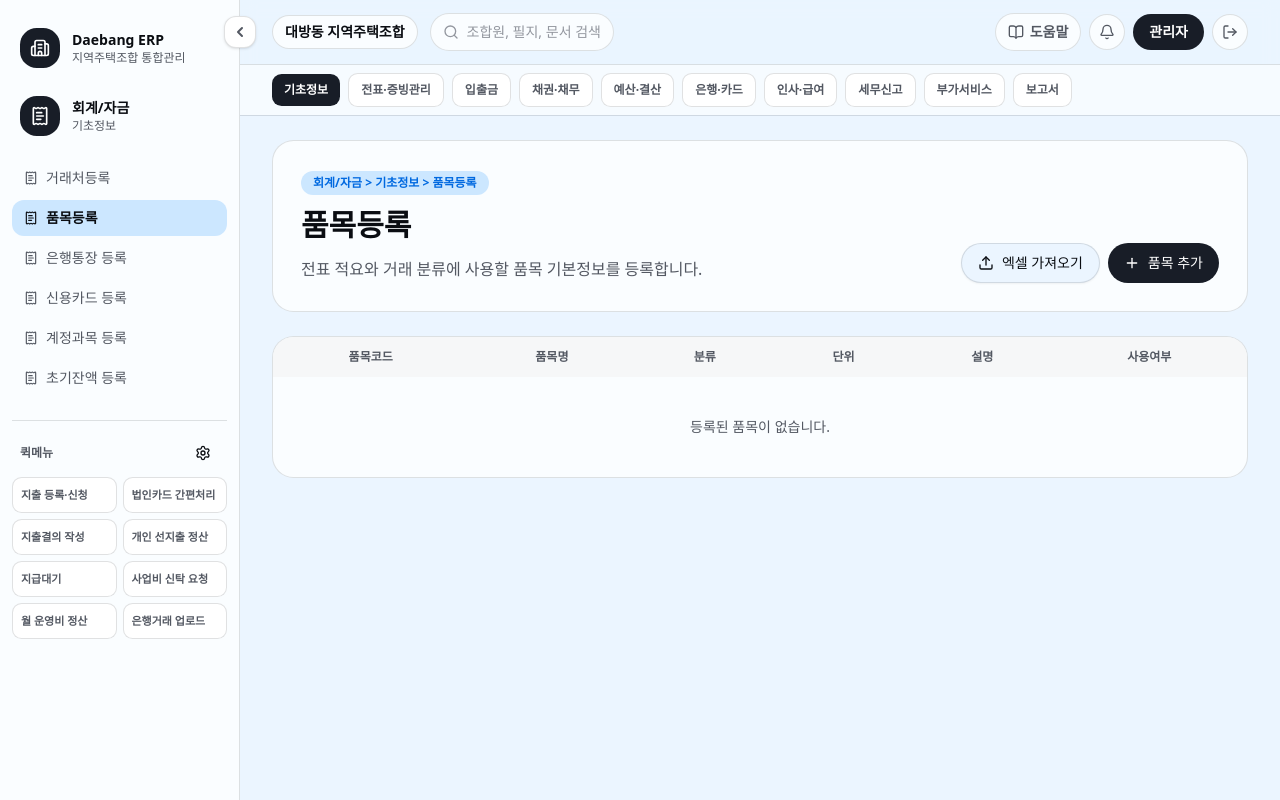
it: BusinessPartnerPage › renders the item section and persists a new item through the configured action
Check: the heading "품목등록" is shown, box [301,204,411,245]
Click the button "품목 추가" at (1163, 263), box [1108,243,1219,283]
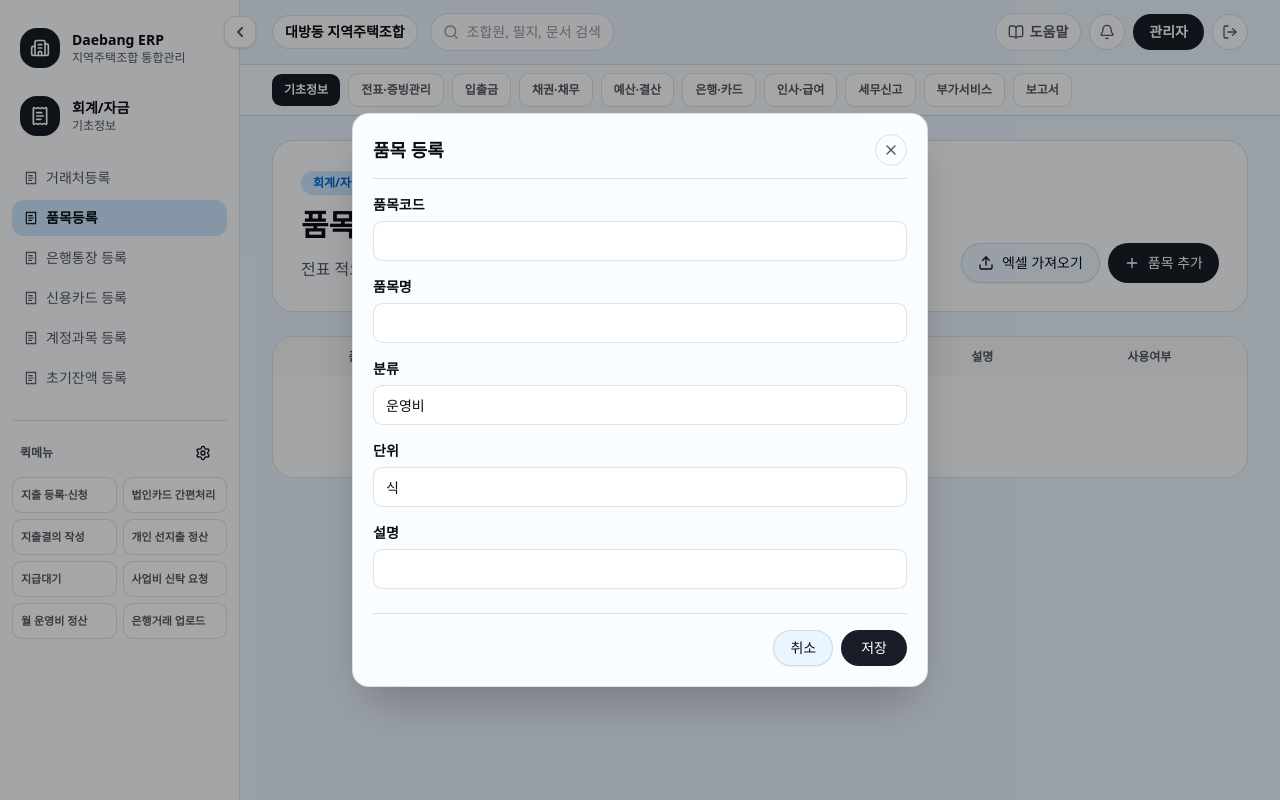
Type "ITEM-001" into the field labelled "품목코드" at (640, 241), box [373,221,907,261]
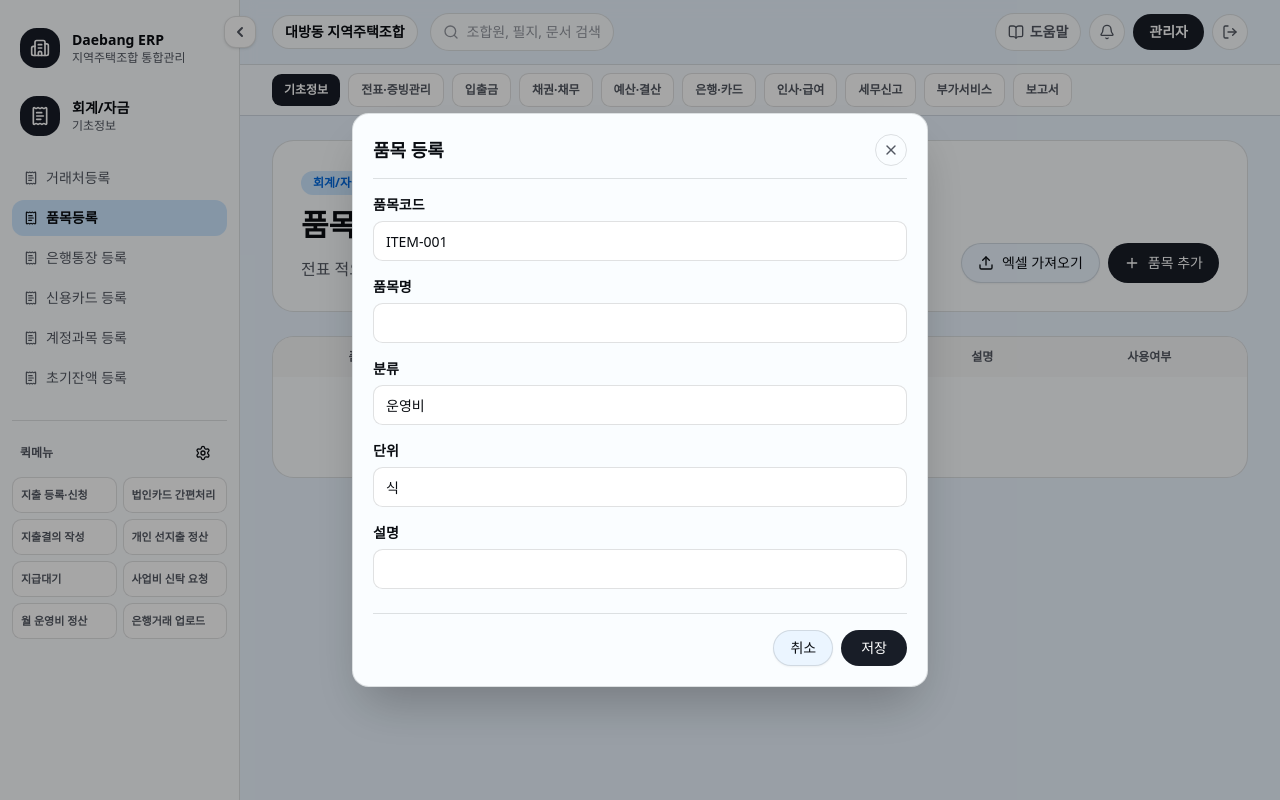
Type "인쇄용역" into the field labelled "품목명" at (640, 323), box [373,303,907,343]
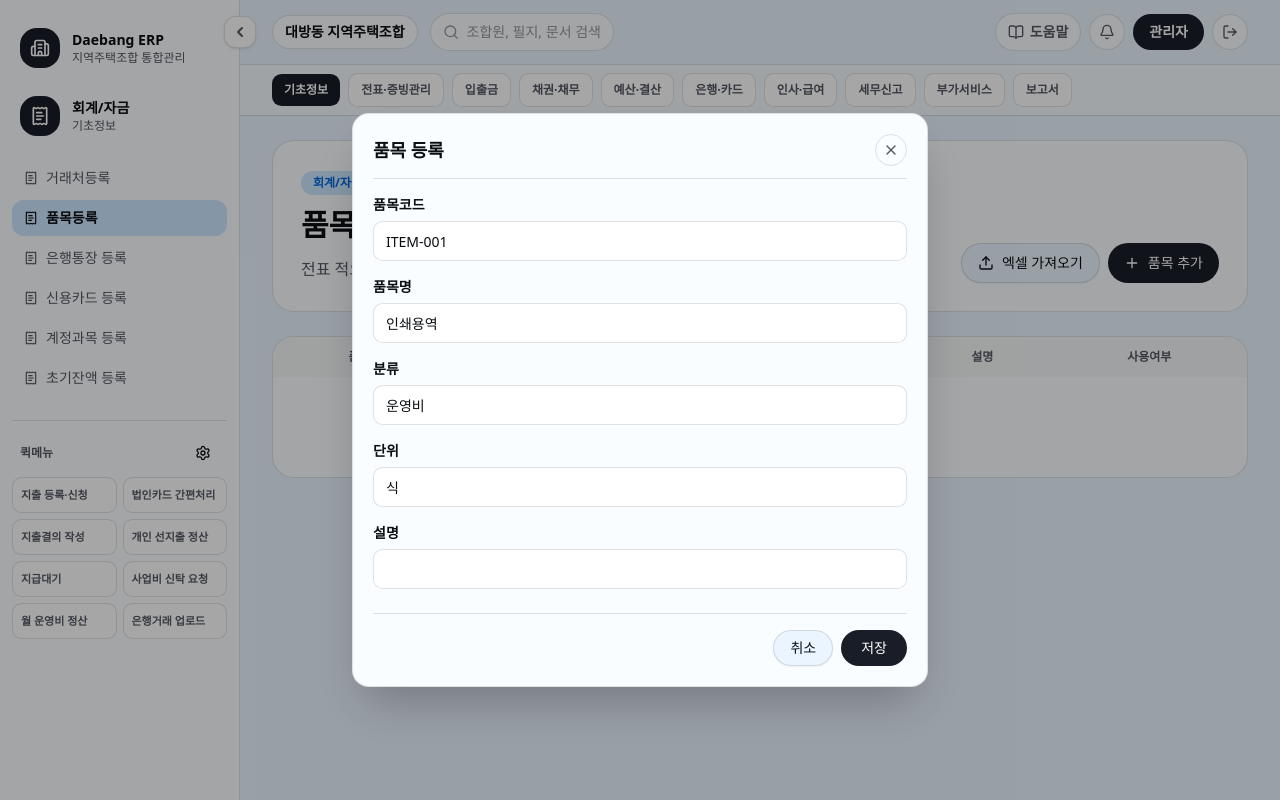
Click the button "저장" at (874, 648), box [841,630,907,666]
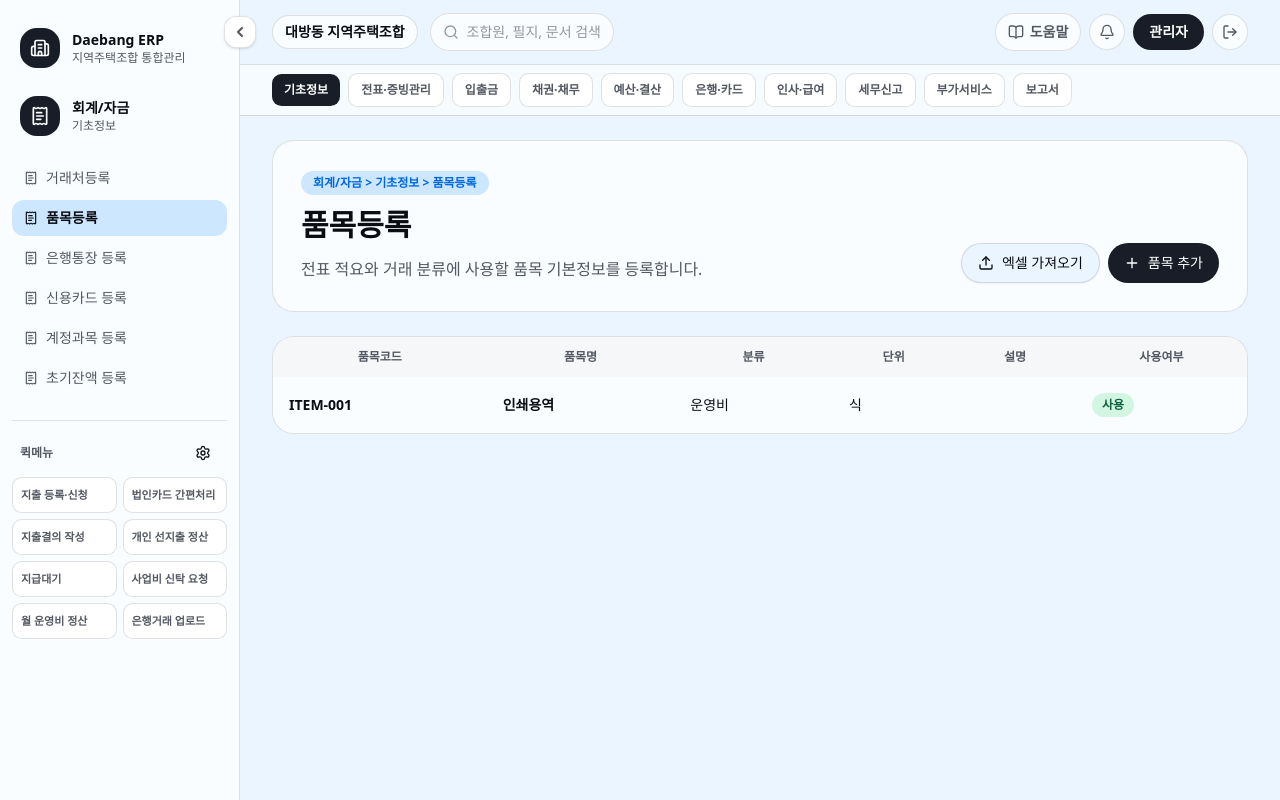
Check: the text "인쇄용역" is shown, box [487,377,674,433]
